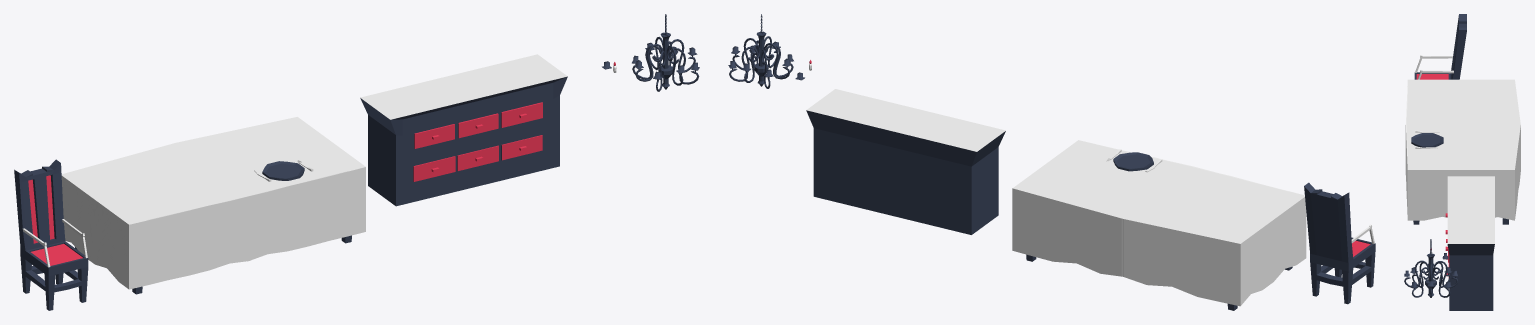
The model's file is assetDining.fbx.
3 renders of one model, left to right at view 1: azimuth 30°, elevation 25°; view 2: azimuth 150°, elevation 25°; view 3: azimuth 270°, elevation 25°, orthographic. The views are drawn at different scales.
Parts seen in each view (by area): view 1: tableDining, buffetDining, chairDining, Chandelier, DinnerPlate; view 2: tableDining, buffetDining, chairDining, Chandelier, DinnerPlate; view 3: tableDining, buffetDining, Chandelier, chairDining, DinnerPlate.
Part boxes in pixels (x1=…): tableDining: x1=61, y1=117, x2=365, y2=294; buffetDining: x1=360, y1=54, x2=567, y2=206; chairDining: x1=14, y1=159, x2=88, y2=310; Chandelier: x1=632, y1=14, x2=699, y2=91; DinnerPlate: x1=254, y1=160, x2=313, y2=181; tableDining: x1=1012, y1=140, x2=1306, y2=310; buffetDining: x1=806, y1=89, x2=1005, y2=234; chairDining: x1=1304, y1=182, x2=1375, y2=304; Chandelier: x1=728, y1=14, x2=793, y2=88; DinnerPlate: x1=1106, y1=149, x2=1162, y2=172; tableDining: x1=1405, y1=79, x2=1520, y2=224; buffetDining: x1=1445, y1=176, x2=1494, y2=310; Chandelier: x1=1404, y1=239, x2=1458, y2=297; chairDining: x1=1414, y1=14, x2=1466, y2=79; DinnerPlate: x1=1411, y1=130, x2=1443, y2=148.
Size of the model in its own units: 27.11 by 5.52 by 5.33.
